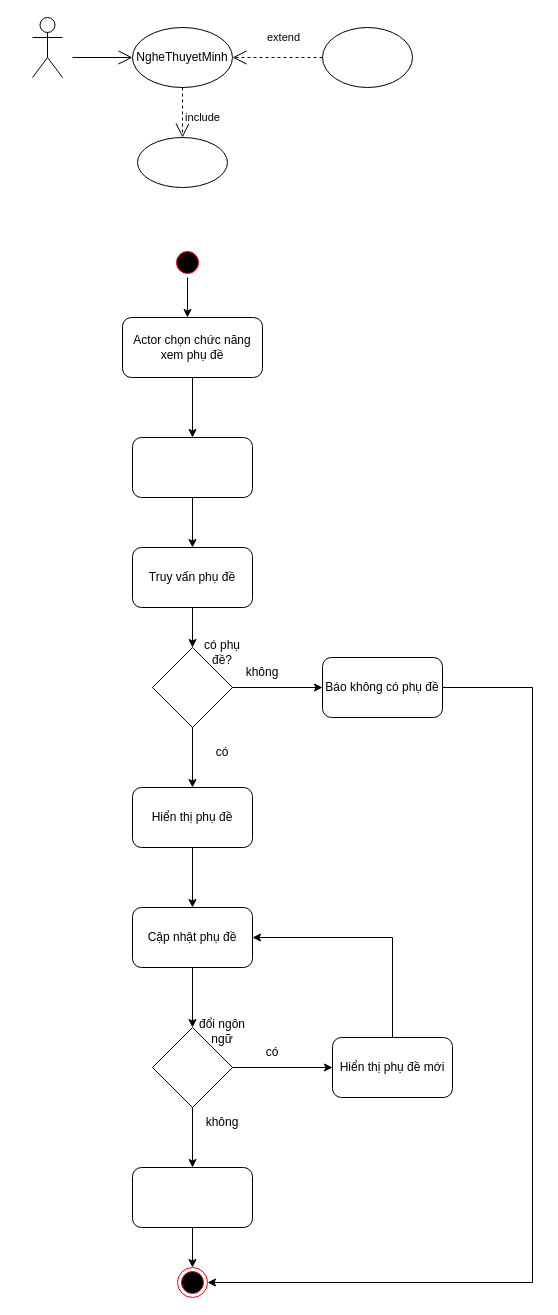
Image size: 558x1315. Some labels were removed from this diagram. Each missing label, with the box of its shape:
Hiển thị phụ đề đến hết video: (132, 1166, 252, 1228)
Hệ thống xác định ngôn ngữ: (132, 436, 252, 498)
NguoiDung: (32, 16, 62, 78)
XemPhuDe: (322, 26, 412, 88)
Đăng nhập: (136, 136, 228, 188)
